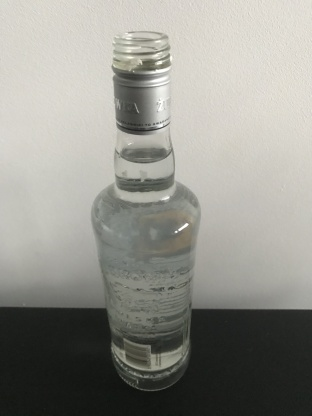nakretka: (110, 28, 174, 136)
